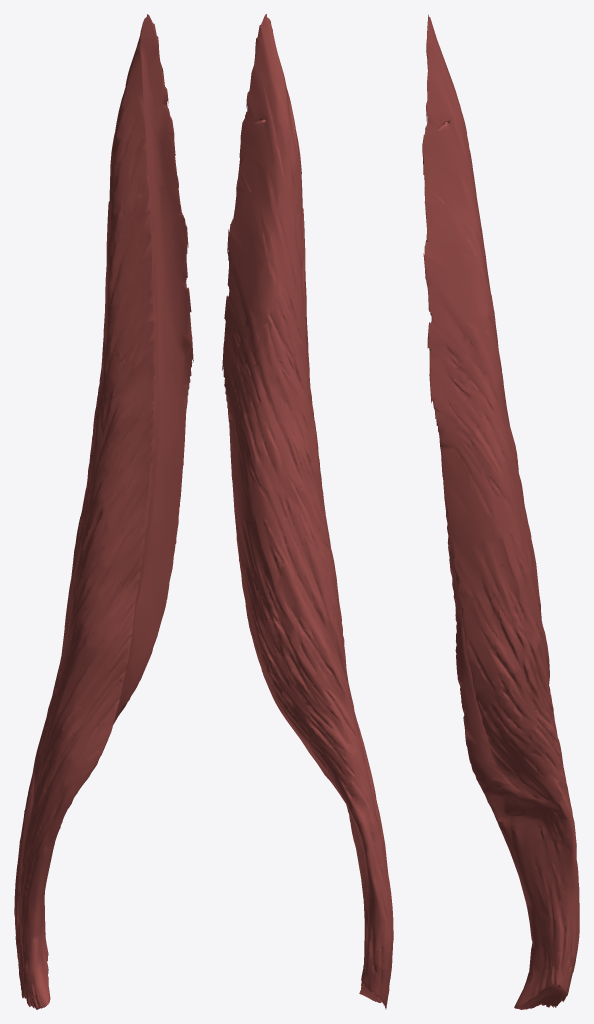
The model's file is FMA45891.glb.
3 views of the same model, side by side, from view 1: azimuth 30°, elevation 25°; view 2: azimuth 210°, elevation 25°; view 3: azimuth 270°, elevation 25° (orthographic). The views are drawn at different scales.
Visible parts, largest first — view 1: FMA45891; view 2: FMA45891; view 3: FMA45891.
Boxes of the visible parts, x1,y1,x2,y2 form: FMA45891: (14,14,193,1009); FMA45891: (222,14,393,1009); FMA45891: (422,14,579,1009).
Size of the model in its own units: 0.0358 by 0.2918 by 0.0405.
